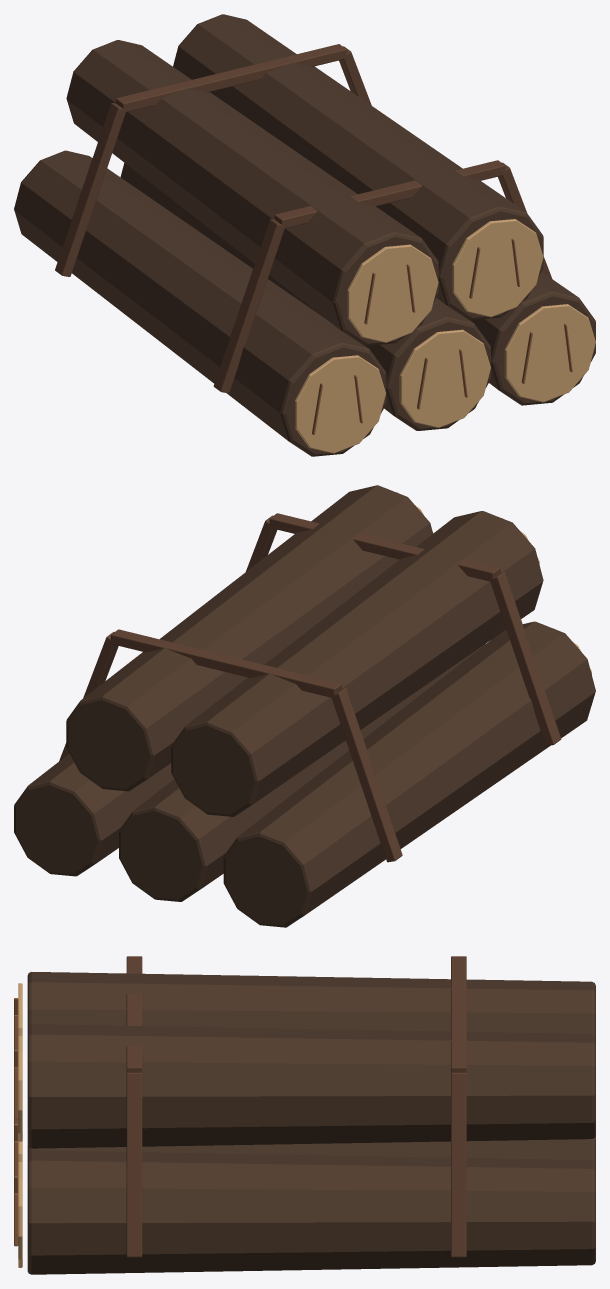
File: cargo_logs.glb
The picture shows the model from 3 angles, top to bottom: view 1: azimuth 30°, elevation 25°; view 2: azimuth 150°, elevation 25°; view 3: azimuth 270°, elevation 25°; orthographic projection. The views are drawn at different scales.
Visible parts, largest first — view 1: cargo_logs__structure, cargo_logs__attachments; view 2: cargo_logs__structure, cargo_logs__attachments; view 3: cargo_logs__structure, cargo_logs__attachments.
Part boxes in pixels (<box>): cargo_logs__structure: <box>14,14,595,456</box>; cargo_logs__attachments: <box>55,44,595,453</box>; cargo_logs__structure: <box>14,485,595,927</box>; cargo_logs__attachments: <box>59,492,591,862</box>; cargo_logs__structure: <box>27,972,595,1274</box>; cargo_logs__attachments: <box>14,956,466,1267</box>.
Size of the model in its own units: 1.21 by 0.7057 by 1.74.
